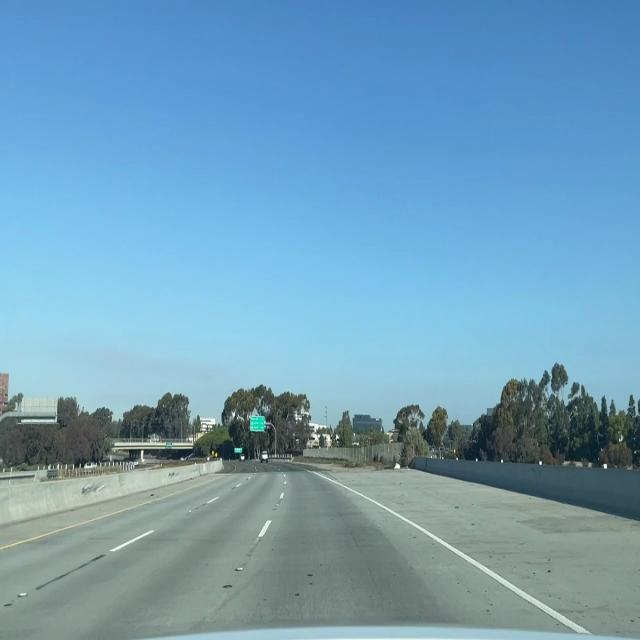street-signs: (250, 416, 265, 432), (234, 447, 242, 453)
